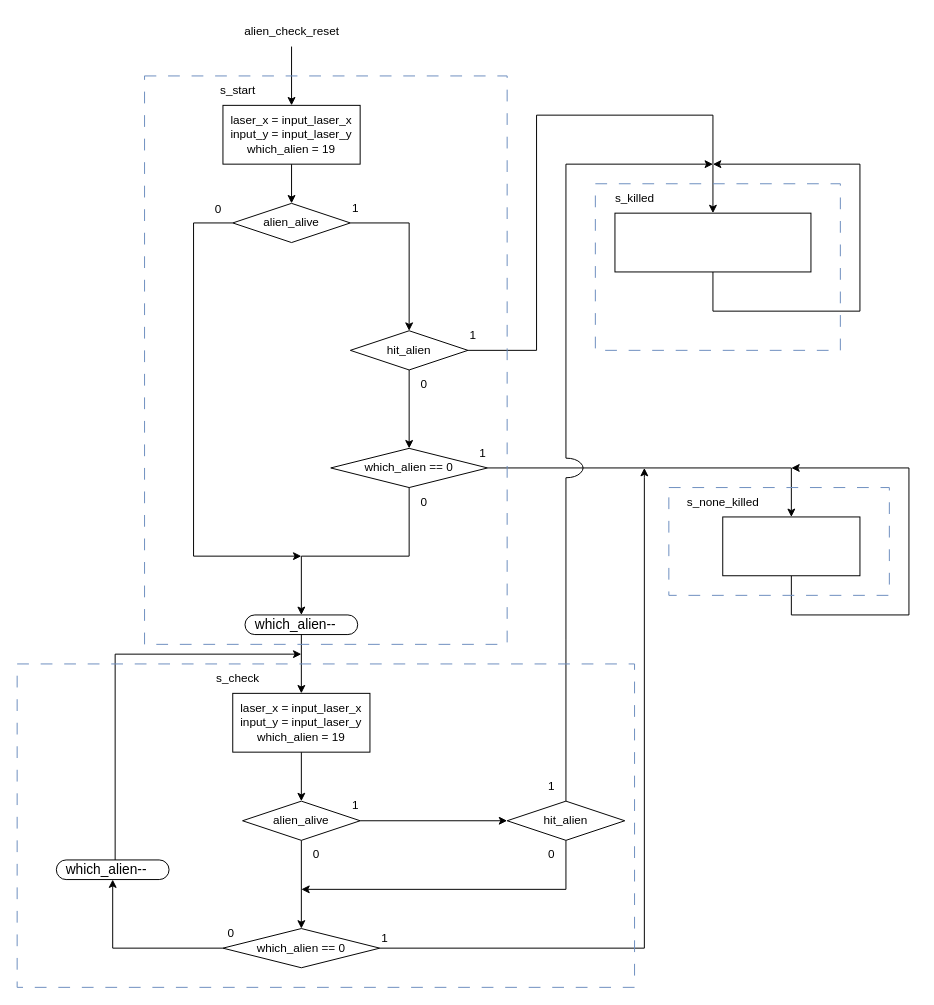
The diagram is 934 pixels wide and 1005 high, and some of its shapes have lost their labels. The centre of each missing label's shape, as x and y in pixels:
alien_killed done which_alien_out = which_alien: point 712,242
done alien_killed = 0 which_alien_out = 5'bZ: point 791,546
